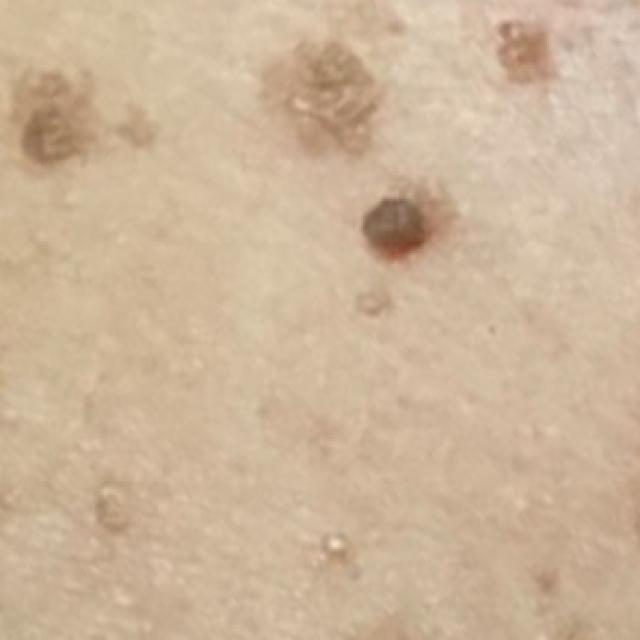wart: (283, 36, 381, 162), (5, 69, 86, 167), (488, 15, 570, 89), (352, 194, 432, 264)
